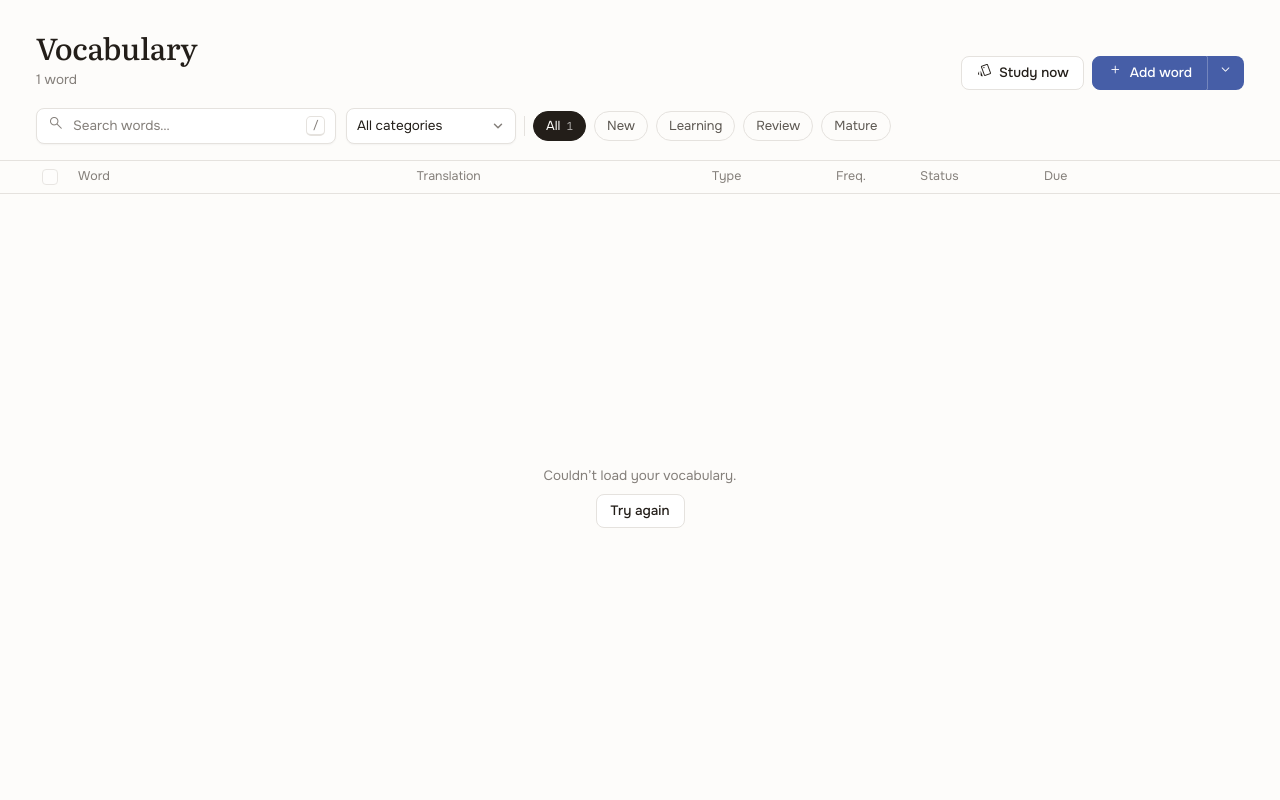
VocabularyPage — loading states › shows an error with Try again instead of a silent empty table, and recovers
Click the button "Try again" at (640, 511), box [596,494,684,528]
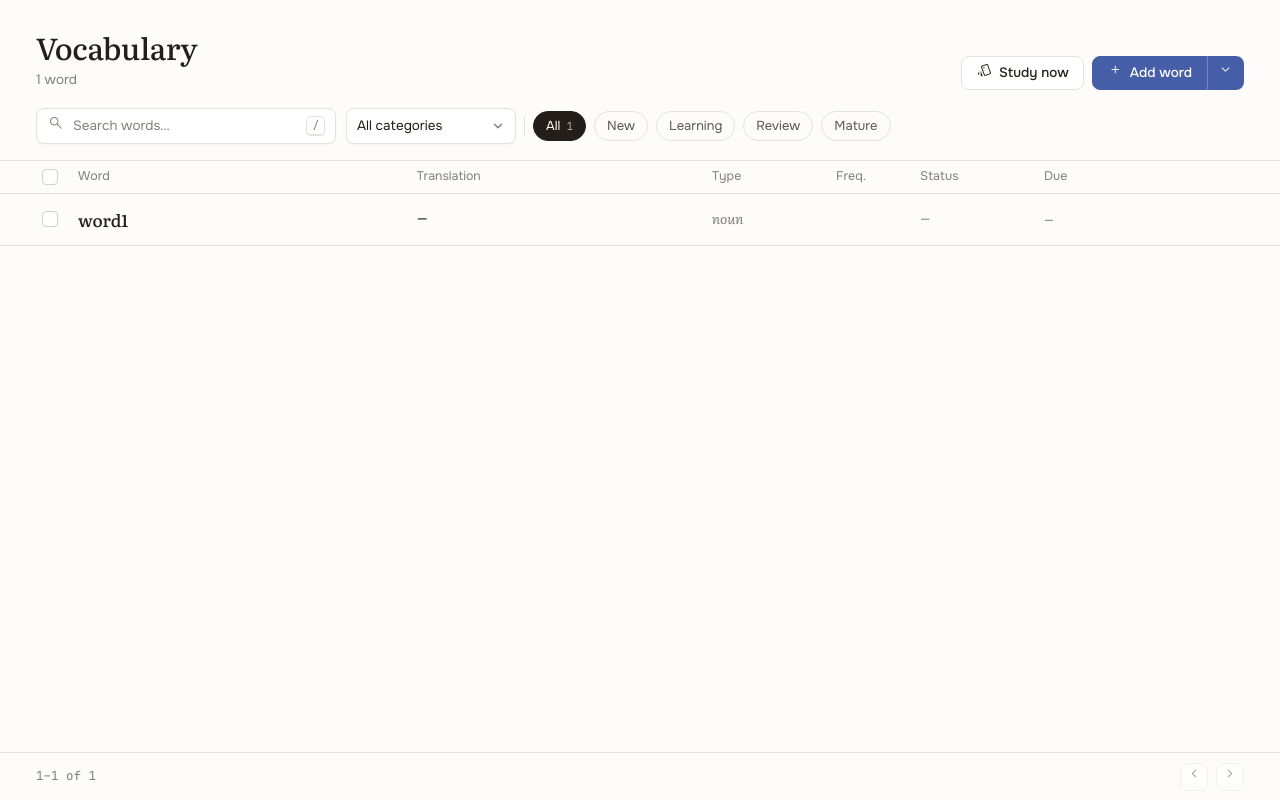
Now the row "word1 — noun — —" is shown, box [0,194,1279,246]
Now the message "Couldn’t load your vocabulary. Try again" is gone
